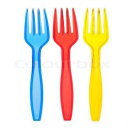Fork: (78, 5, 119, 128), (19, 3, 52, 124), (51, 5, 85, 122)
